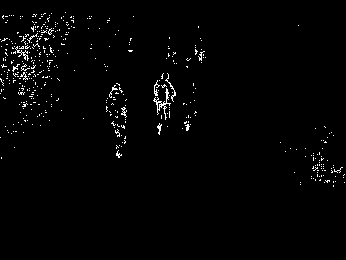person: (106, 82, 129, 159), (153, 71, 176, 137)
